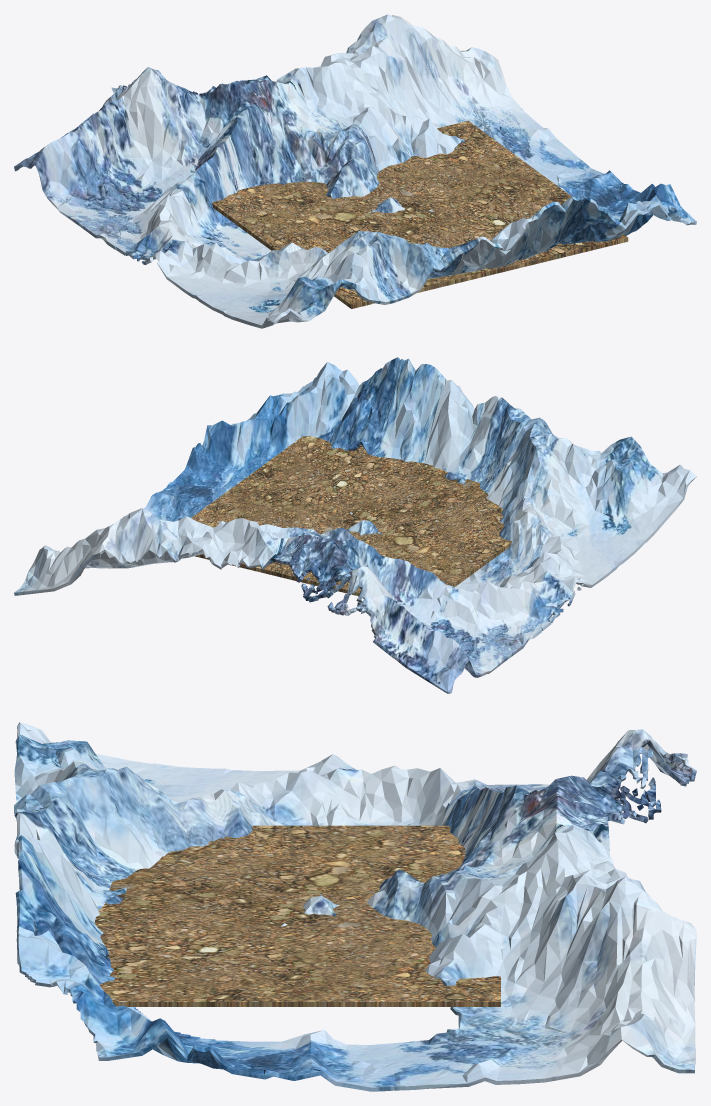
The model's file is howl_field_background.obj.
3 views of the same model, one above another, from view 1: azimuth 30°, elevation 25°; view 2: azimuth 150°, elevation 25°; view 3: azimuth 270°, elevation 25° (orthographic). The views are drawn at different scales.
Visible parts, largest first — view 1: SnowyMountainMesh.001, Plane; view 2: SnowyMountainMesh.001, Plane; view 3: SnowyMountainMesh.001, Plane.
Boxes of the visible parts, x1,y1,x2,y2 form: SnowyMountainMesh.001: (14, 14, 696, 328); Plane: (212, 120, 628, 308); SnowyMountainMesh.001: (14, 357, 696, 693); Plane: (191, 436, 512, 595); SnowyMountainMesh.001: (14, 722, 696, 1091); Plane: (94, 825, 500, 1006).
Size of the model in its own units: 227 by 53.46 by 225.
